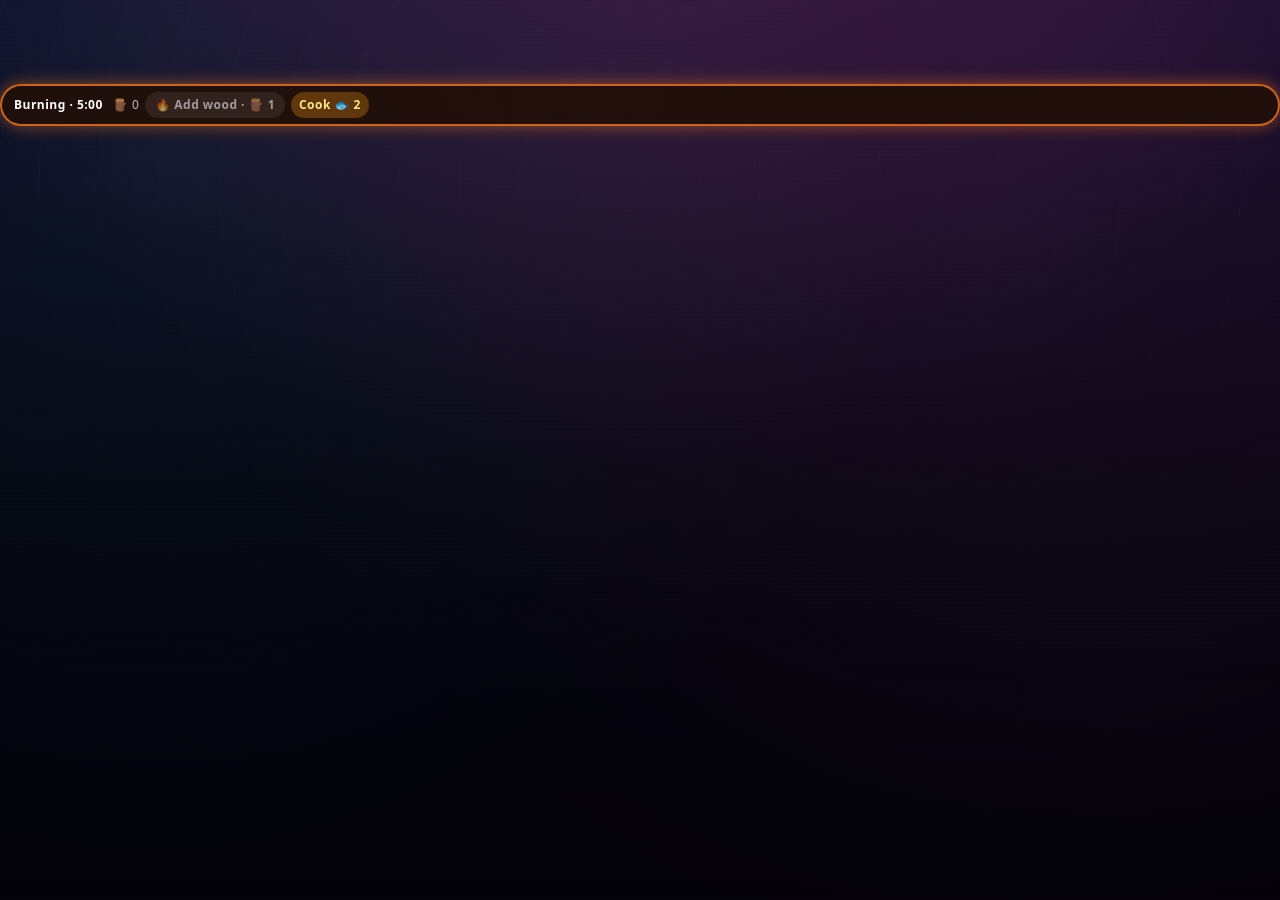
Test: fire pit grill controls › puts a fish on the grill of a lit fire
Click the button with test id "fire-pit-cook-fish". click: (330, 105)
box: [291,92,369,118]
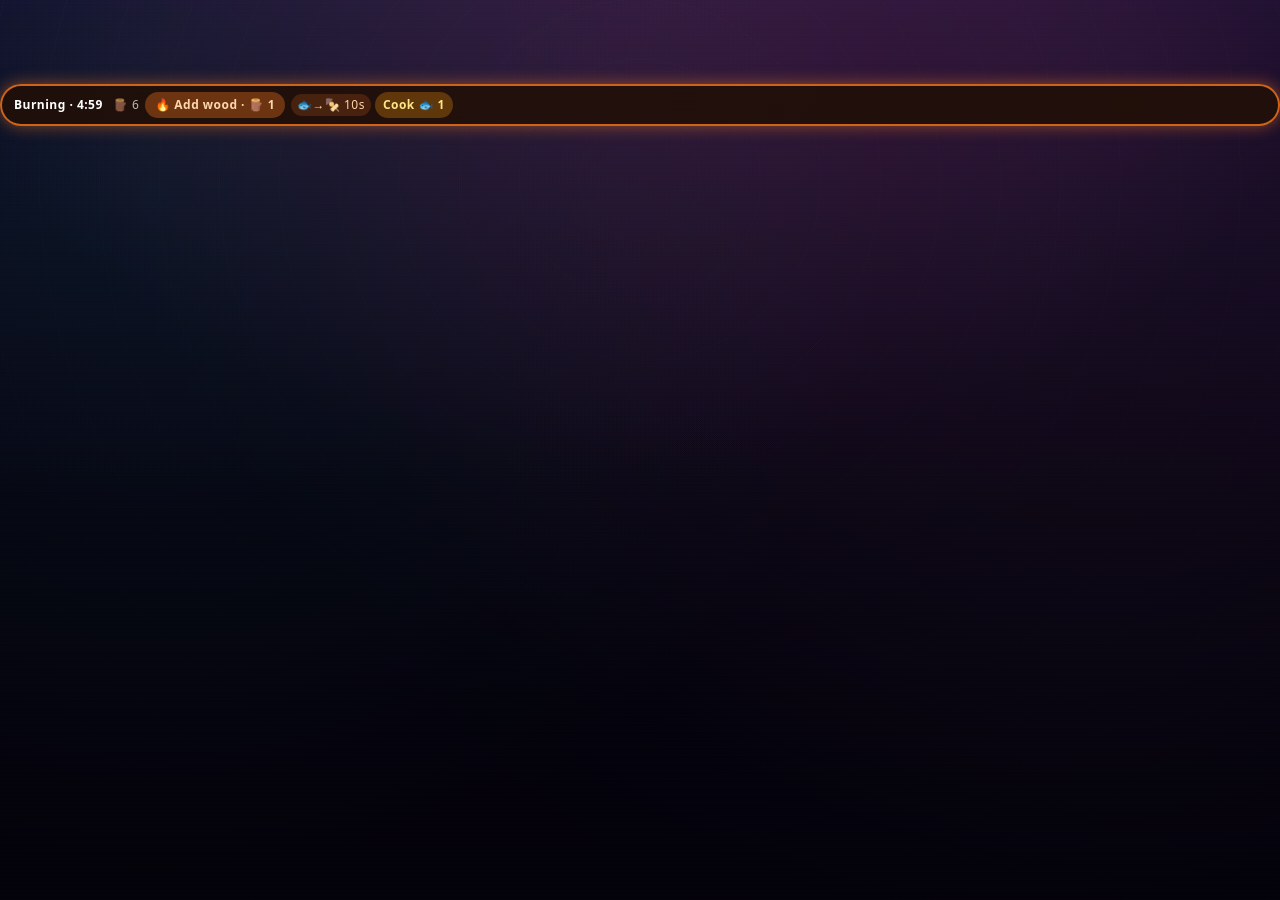
Now the number of elements with test id "fire-pit-grill-job" is 1, box [291,94,371,116]
